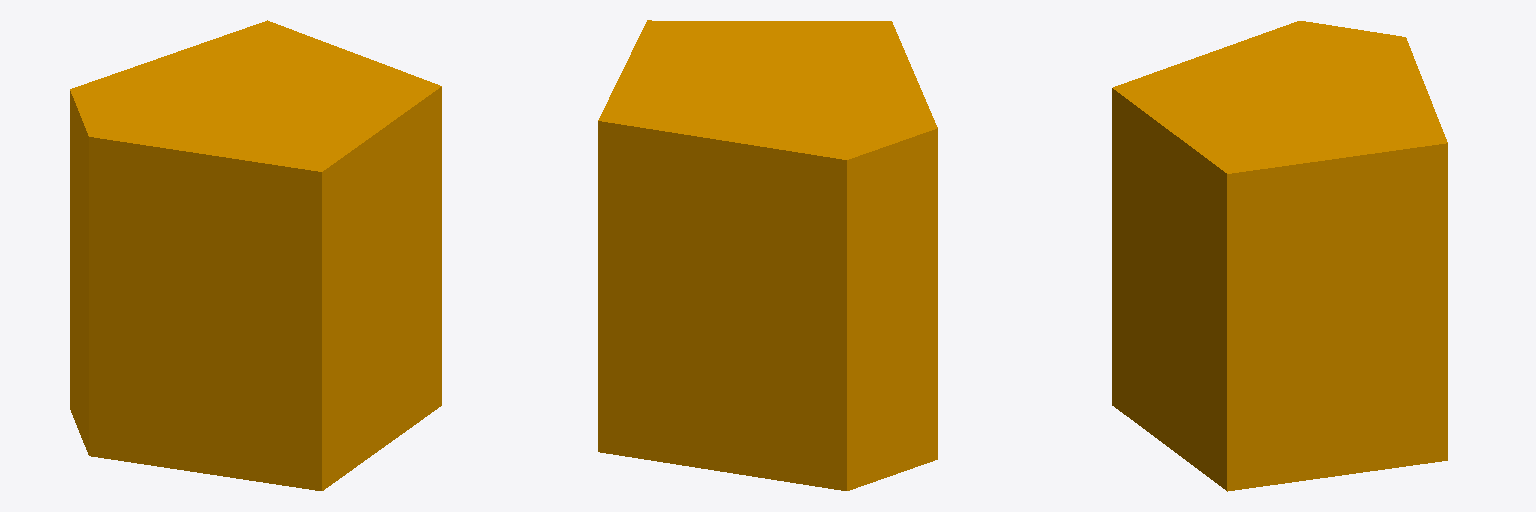
robot.urdf — object:
<?xml version="1.0"?>
<robot name="object">
  <link name="object">
    <visual>
      <origin xyz="0 0 0"/>
      <geometry>
        <mesh filename="meshes/generated/col_048.obj" scale="0.03 0.03 0.03"/>
      </geometry>
    </visual>
    <collision>
      <origin xyz="0 0 0"/>
      <geometry>
        <mesh filename="meshes/generated/col_048.obj" scale="0.03 0.03 0.03"/>
      </geometry>
    </collision>
    <inertial>
      <density value="1000.0"/>
    </inertial>
  </link>
</robot>

--- Render facts (derived) ---
Views: 3 orthographic renders of the robot side by side, from view 1: azimuth 30°, elevation 25°; view 2: azimuth 150°, elevation 25°; view 3: azimuth 270°, elevation 25°.
Robot: object — 1 links, 0 joints (none); root link object; default pose: every joint at zero.
Links seen in each view (by area): view 1: object; view 2: object; view 3: object.
Link boxes in pixels (bbox=[...]): object: bbox=[70, 20, 441, 490]; object: bbox=[598, 20, 937, 490]; object: bbox=[1112, 21, 1447, 491].
Size in the robot's own frame: 0.0623 by 0.0576 by 0.06 metres.
1 mesh visuals loaded from 1 distinct referenced files (1 OBJ).
